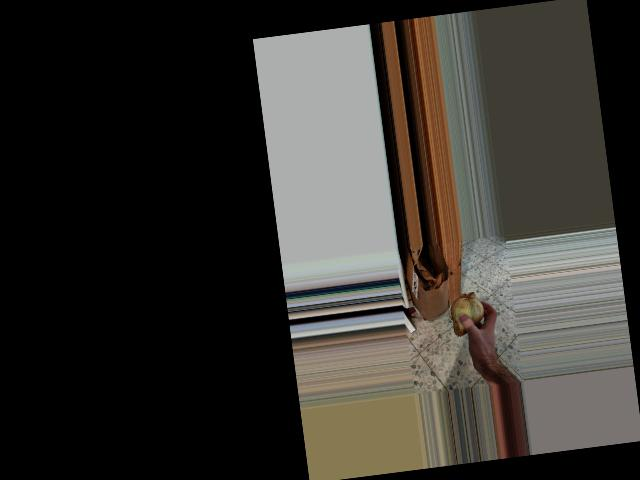onion: (444, 288, 490, 339)
